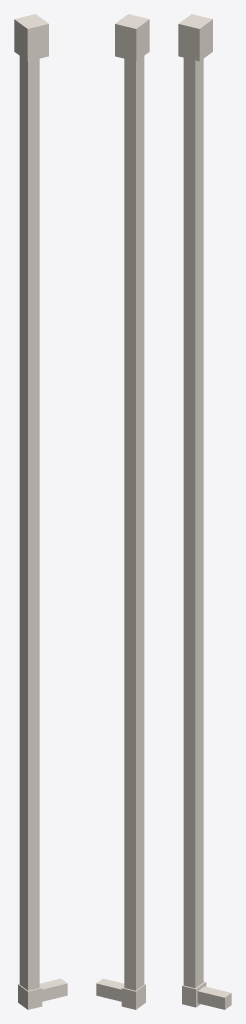
Rendered from SM_Fixture_AcCover_EndR_01.gltf.
3 renders of one model, left to right at view 1: azimuth 30°, elevation 25°; view 2: azimuth 150°, elevation 25°; view 3: azimuth 330°, elevation 25°, orthographic.
Parts seen in each view (by area): view 1: SM_Fixture_AcCover_EndR_01; view 2: SM_Fixture_AcCover_EndR_01; view 3: SM_Fixture_AcCover_EndR_01.
Part boxes in pixels (x1,y1,x2,y2): SM_Fixture_AcCover_EndR_01: [14, 14, 67, 1009]; SM_Fixture_AcCover_EndR_01: [96, 14, 149, 1009]; SM_Fixture_AcCover_EndR_01: [178, 14, 231, 1009].
Bounding box in the file's own units: 0.223 × 4.83 × 0.12.
Materials: 1 (1 with a texture image).
